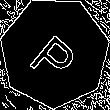P_NE: (25, 22, 84, 83)
